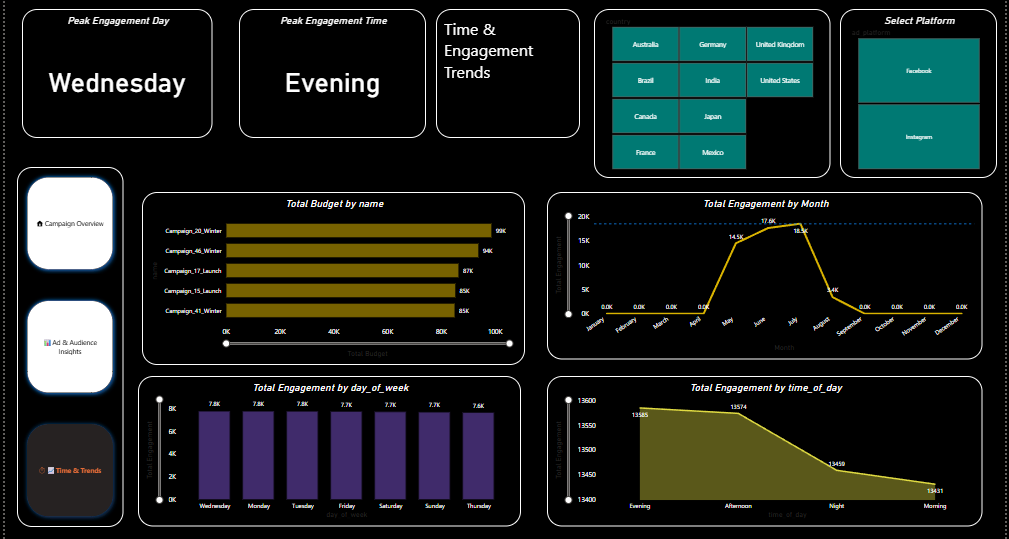

Layout of this report page (visuals, bound fields, positions):
{"tool":"powerbi","page":{"name":"⏱ 📈Time & Trends","canvas":[2000,1080],"ordinal":2},"visuals":[{"type":"card","title":"Peak Engagement Day","fields":{"Values":["Meaasure Table.Peak Engagement Day"]},"box":[34.4,17.2,380.6,258.1],"z":0},{"type":"card","title":"Peak Engagement Time","fields":{"Values":["Meaasure Table.Peak Engagement Time"]},"box":[468.8,17.2,374.2,258.1],"z":1000},{"type":"lineChart","fields":{"Category":["social_media_ad adevents.date.Variation.Date Hierarchy.Year","social_media_ad adevents.date.Variation.Date Hierarchy.Month","social_media_ad adevents.date.Variation.Date Hierarchy.Day"],"Y":["Meaasure Table.Total Engagement"]},"box":[1083.9,384.9,871,335.5],"z":2000},{"type":"clusteredColumnChart","fields":{"Category":["social_media_ad adevents.day_of_week"],"Y":["Meaasure Table.Total Engagement"]},"box":[266.7,752.7,765.6,301.1],"z":3000},{"type":"areaChart","fields":{"Category":["social_media_ad adevents.time_of_day"],"Y":["Meaasure Table.Total Engagement"]},"box":[1083.9,752.7,871,301.1],"z":4000},{"type":"clusteredBarChart","fields":{"Category":["social_media_ad campaigns.name"],"Y":["Meaasure Table.Total Budget"]},"box":[273.1,384.9,765.6,346.2],"z":5000},{"type":"pageNavigator","box":[23.7,333.3,212.9,720.4],"z":6000},{"type":"slicer","title":"Select Platform","fields":{"Values":["social_media_ad ads.ad_platform"]},"box":[1671,17.2,314,337.6],"z":7000},{"type":"slicer","fields":{"Values":["social_media_ad users.country"]},"box":[1178.5,17.2,473.1,337.6],"z":8000},{"type":"textbox","box":[862.4,17.2,288.2,258.1],"z":9000}]}

Visuals, with their boxes in screenshot pixels (x1, y1, x2, y2), scaled from the page's 2000x1080 canvas onto the 1009x539 screenshot:
"Peak Engagement Day" card: BBox(17, 9, 209, 137)
"Peak Engagement Time" card: BBox(237, 9, 425, 137)
lineChart - social_media_ad adevents.date.Variation.Date Hierarchy.Year x social_media_ad adevents.date.Variation.Date Hierarchy.Month: BBox(547, 192, 986, 360)
clusteredColumnChart - social_media_ad adevents.day_of_week x Meaasure Table.Total Engagement: BBox(135, 376, 521, 526)
areaChart - social_media_ad adevents.time_of_day x Meaasure Table.Total Engagement: BBox(547, 376, 986, 526)
clusteredBarChart - social_media_ad campaigns.name x Meaasure Table.Total Budget: BBox(138, 192, 524, 365)
pageNavigator: BBox(12, 166, 119, 526)
"Select Platform" slicer: BBox(843, 9, 1001, 177)
slicer - social_media_ad users.country: BBox(595, 9, 833, 177)
textbox: BBox(435, 9, 580, 137)
